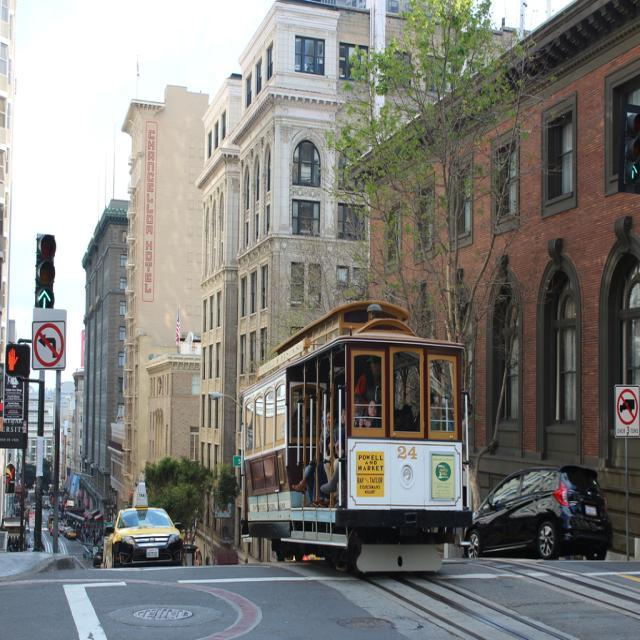road_sign: (31, 322, 65, 369), (615, 387, 640, 426)
traffic light: (619, 104, 640, 194), (34, 232, 57, 309), (4, 343, 30, 377)
